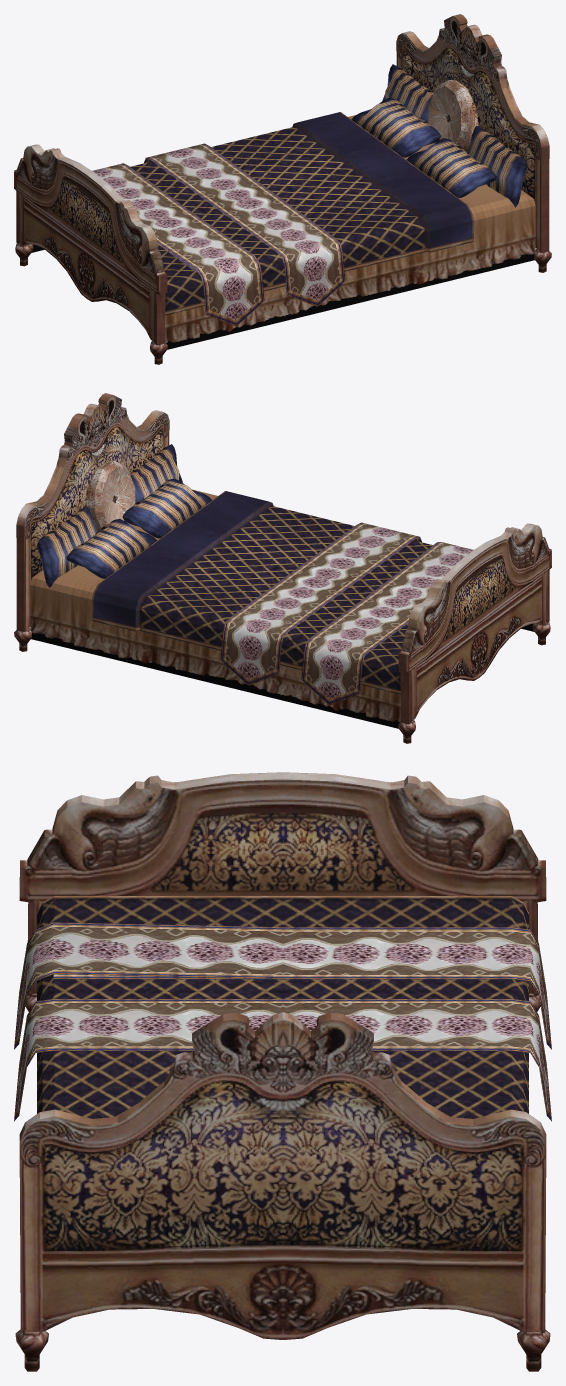
Rendered from furni_0201204.FBX.
3 views of the same model, one above another, from view 1: azimuth 30°, elevation 25°; view 2: azimuth 150°, elevation 25°; view 3: azimuth 270°, elevation 25° (orthographic). The views are drawn at different scales.
Parts seen in each view (by area): view 1: furni_0201204; view 2: furni_0201204; view 3: furni_0201204.
Part boxes in pixels (x1,y1,x2,y2): furni_0201204: [14, 14, 551, 364]; furni_0201204: [14, 393, 551, 743]; furni_0201204: [14, 772, 551, 1371].
Size of the model in its own units: 253 by 119 by 164.
1 material, 1 textured.
